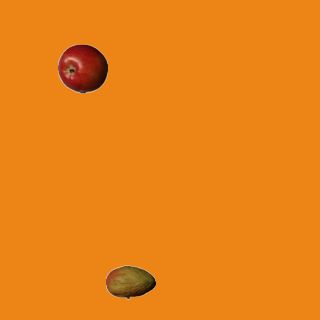Apple Braeburn: (57, 43, 107, 93)
Papaya: (105, 257, 155, 307)
